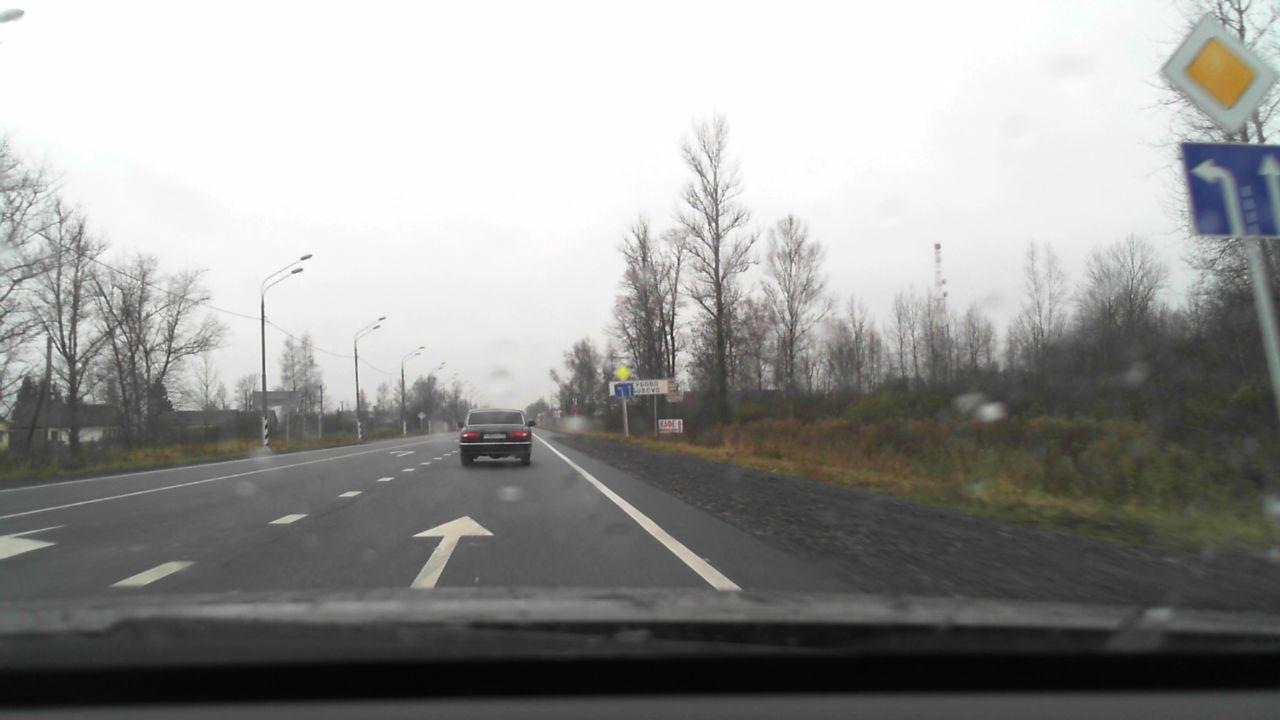2_1: (1159, 13, 1280, 134), (612, 363, 633, 381)
5_15_1: (1181, 142, 1279, 237), (615, 383, 634, 398)
